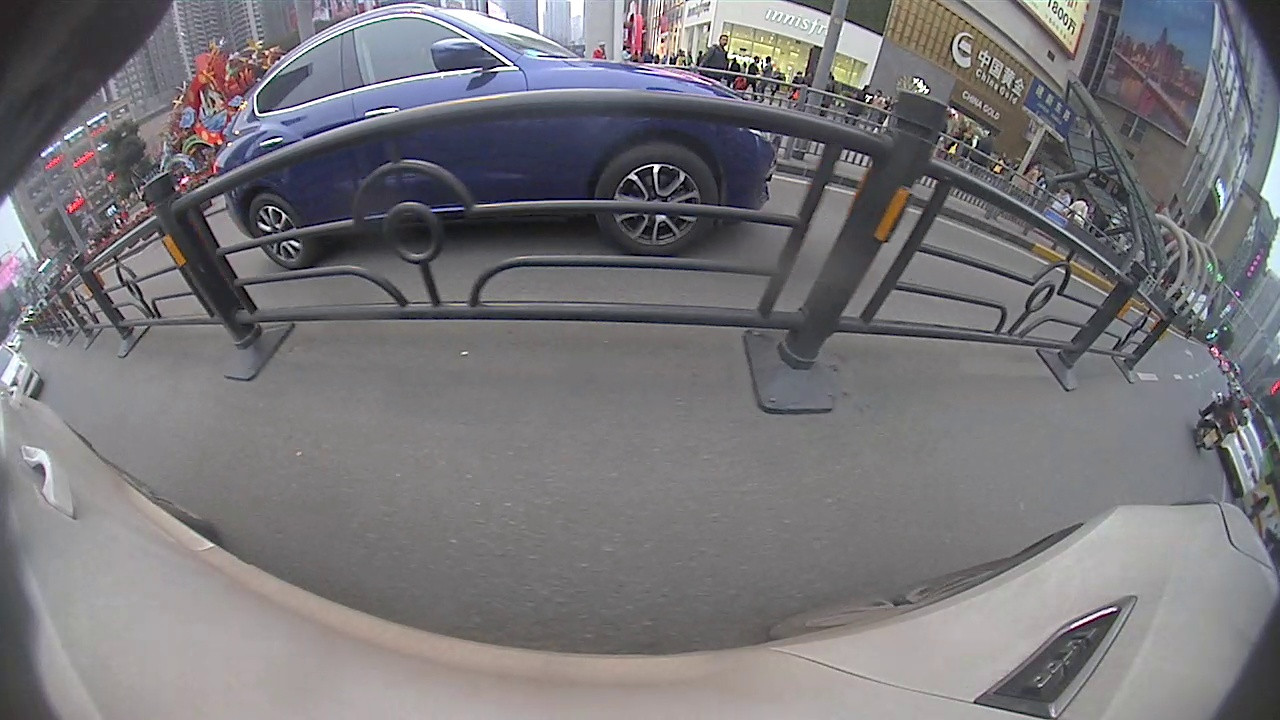car: (213, 2, 776, 269), (1218, 424, 1262, 500)
front: (593, 144, 721, 254)
rear: (245, 190, 310, 271)
rider: (1192, 388, 1257, 458)
